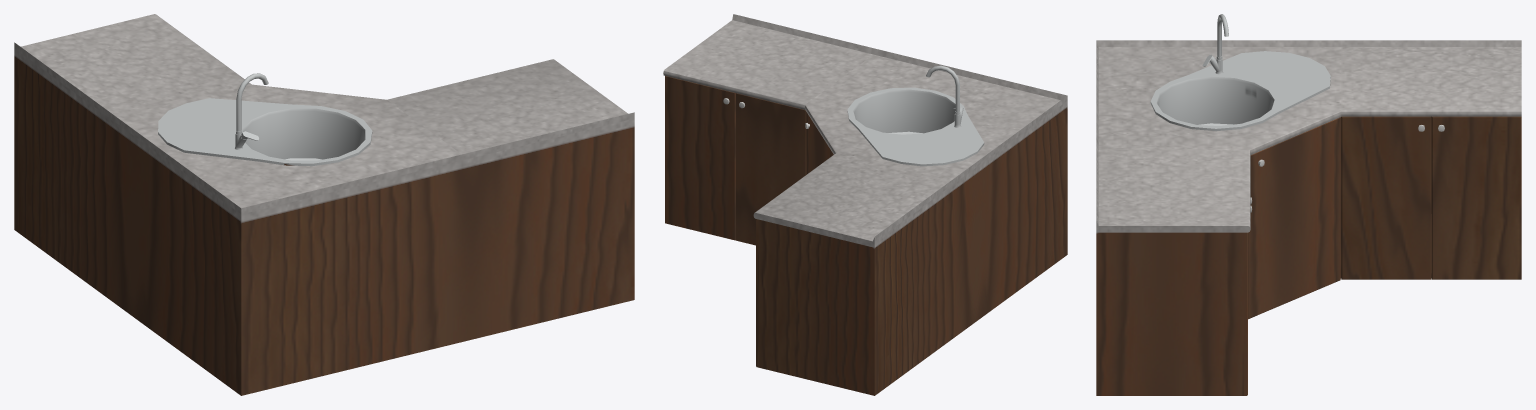
File: CabinetRoundedWithSink.obj
3 views of the same model, side by side, from view 1: azimuth 30°, elevation 25°; view 2: azimuth 150°, elevation 25°; view 3: azimuth 270°, elevation 25° (orthographic). The views are drawn at different scales.
Parts seen in each view (by area): view 1: KitchenCabinetRoundedWithSink; view 2: KitchenCabinetRoundedWithSink; view 3: KitchenCabinetRoundedWithSink.
Part boxes in pixels (x1,y1,x2,y2): KitchenCabinetRoundedWithSink: [14, 14, 634, 395]; KitchenCabinetRoundedWithSink: [663, 14, 1067, 395]; KitchenCabinetRoundedWithSink: [1096, 14, 1521, 395].
Size of the model in its own units: 1.89 by 1.16 by 1.89.
